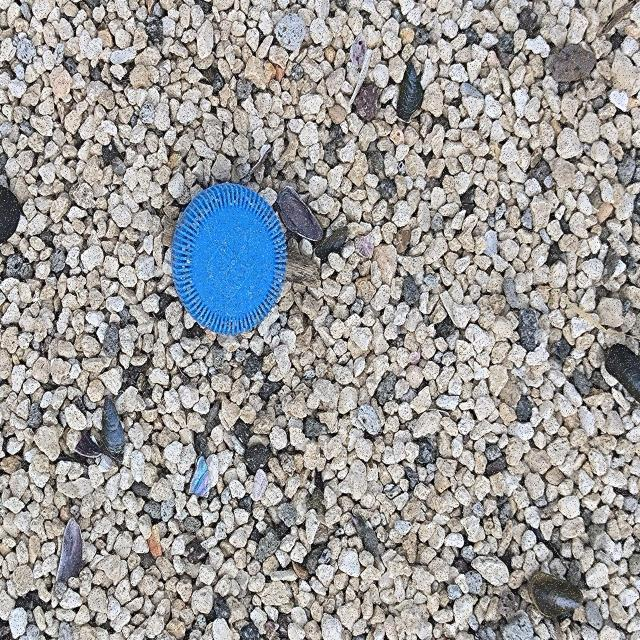plastic_waste: (170, 180, 290, 338)
